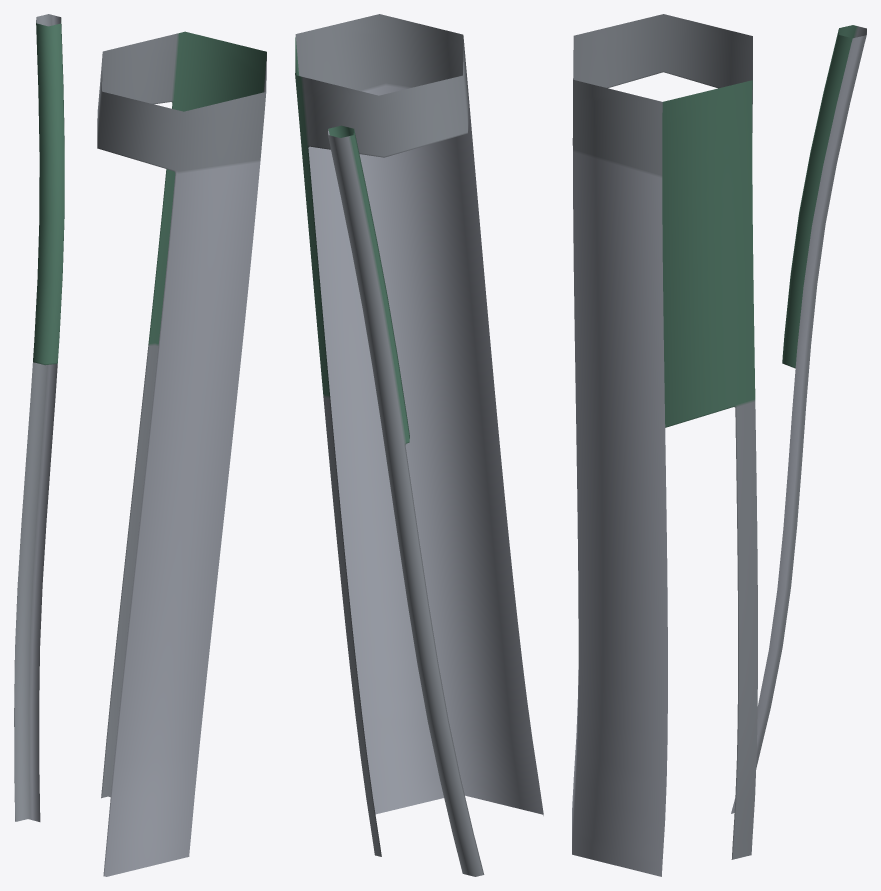
The model's file is section-1.obj.
The picture shows the model from 3 angles, left to right: view 1: azimuth 30°, elevation 25°; view 2: azimuth 150°, elevation 25°; view 3: azimuth 270°, elevation 25°; orthographic projection. The views are drawn at different scales.
Bounding box in the file's own units: 0.3406 × 1 × 0.3275.
